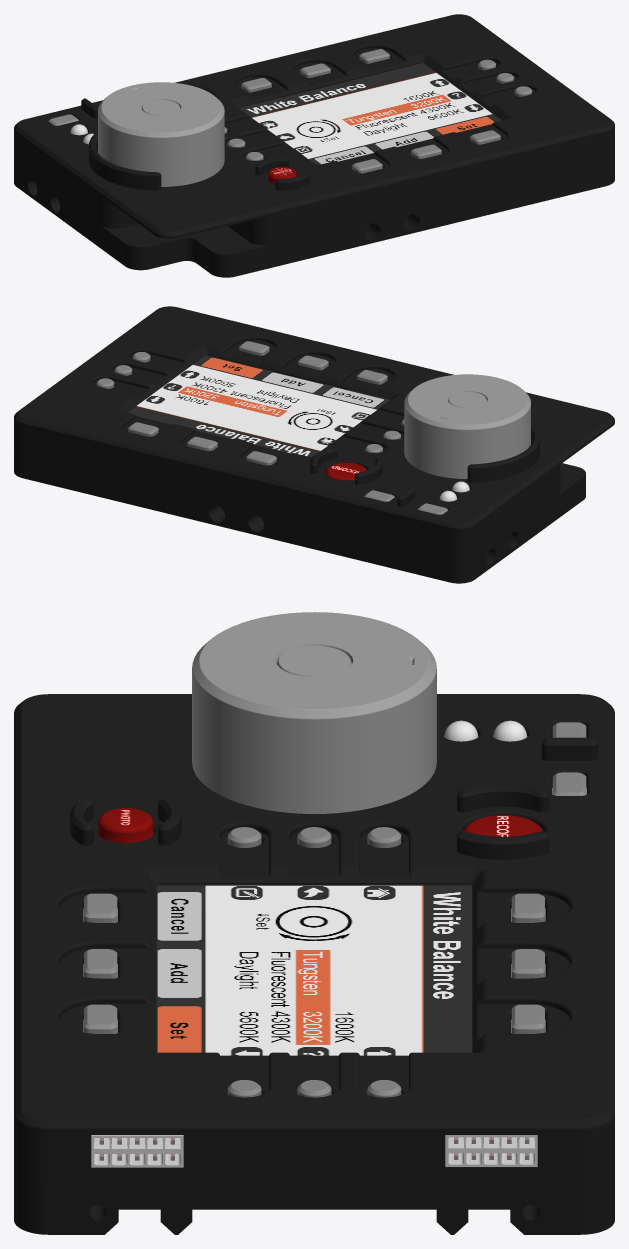
Rendered from axiom_remote02.glb.
3 views of the same model, one above another, from view 1: azimuth 30°, elevation 25°; view 2: azimuth 150°, elevation 25°; view 3: azimuth 270°, elevation 25° (orthographic). The views are drawn at different scales.
Visible parts, largest first — view 1: Enclosure top, Enclosure bottom, LCD, Knob_new, Knob_press; view 2: Enclosure top, Enclosure bottom, LCD, Knob_new, Button_photo_new.001, Knob_press; view 3: Enclosure top, LCD, Knob_new, Enclosure bottom, Object.128, Object.087, Knob_press, Button_photo_new, Button_photo_new.001, Button 1, Button 2, Button_4 (+3 smaller).
Boxes of the visible parts, <box> form: Enclosure top: <box>14,14,614,241</box>; Enclosure bottom: <box>14,62,614,277</box>; LCD: <box>239,63,501,164</box>; Knob_new: <box>98,82,224,186</box>; Knob_press: <box>142,99,180,115</box>; Enclosure top: <box>14,306,614,557</box>; Enclosure bottom: <box>14,354,585,583</box>; LCD: <box>128,355,389,456</box>; Knob_new: <box>404,374,530,478</box>; Button_photo_new.001: <box>325,462,366,480</box>; Knob_press: <box>448,391,486,407</box>; Enclosure top: <box>14,694,614,1184</box>; LCD: <box>156,885,472,1055</box>; Knob_new: <box>192,612,436,813</box>; Enclosure bottom: <box>14,884,614,1234</box>; Object.128: <box>91,1135,183,1167</box>; Object.087: <box>445,1135,537,1166</box>; Knob_press: <box>277,645,351,676</box>; Button_photo_new: <box>97,808,153,843</box>; Button_photo_new.001: <box>463,815,542,836</box>; Button 1: <box>511,893,545,922</box>; Button 2: <box>511,949,545,978</box>; Button_4: <box>83,893,117,922</box>.
Size of the model in its own units: 0.146 by 0.0349 by 0.086.
11 materials, 1 textured.
